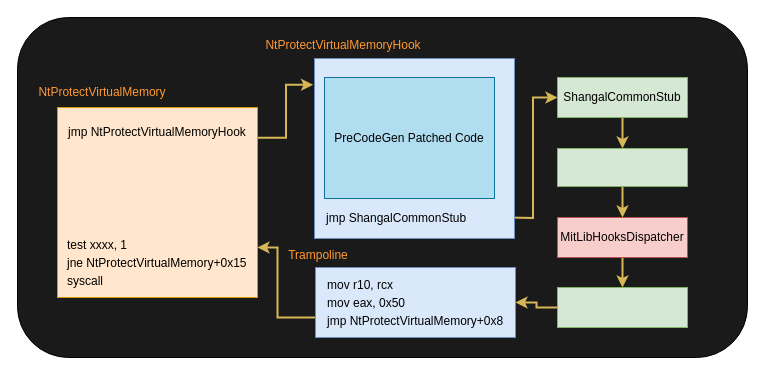
This 765x375 diagram has some shape labels left out. The box of each missing label's shape, as (x1, y1, x2, y2) in pixels:
ShangalCallApi: (556, 286, 688, 328)
ShangalCStub: (556, 148, 688, 186)
